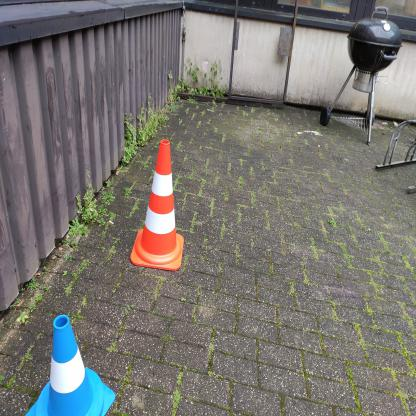Cones_big: (122, 121, 203, 302)
Cones_small_blue: (21, 296, 120, 415)
